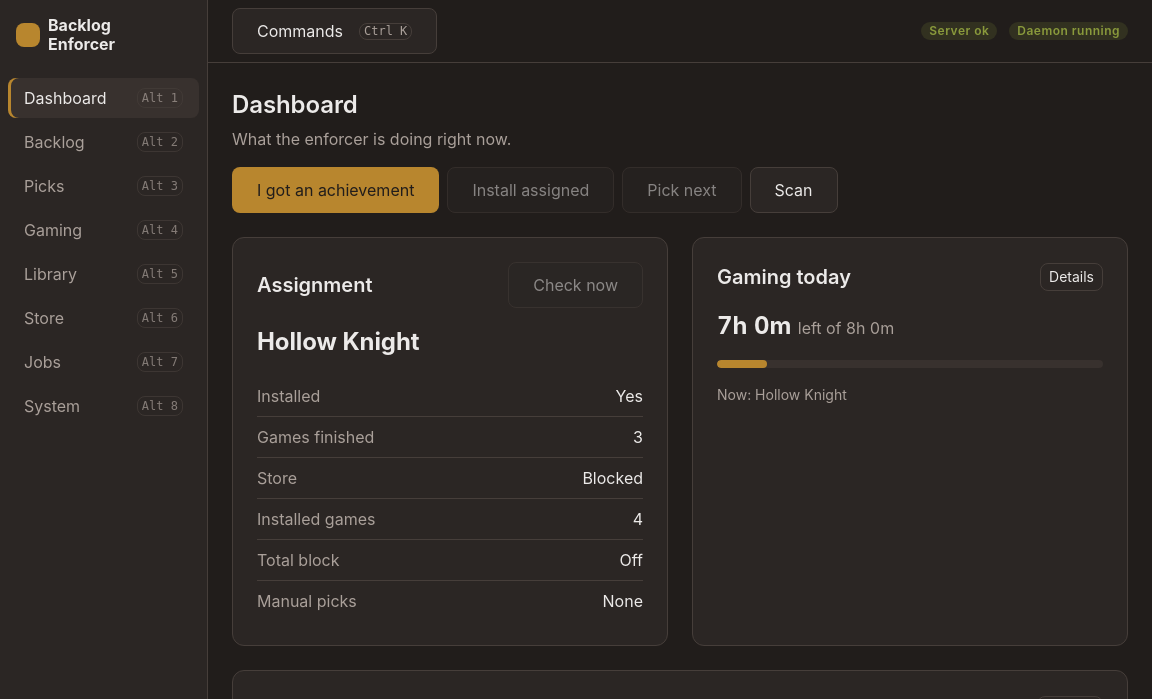
Test: App › walks the sidebar to another section
What coordinates should you click on to do the following:
click the link "Store Alt 6"
I would click on:
 (44, 318)
Its box is [24, 308, 183, 328].
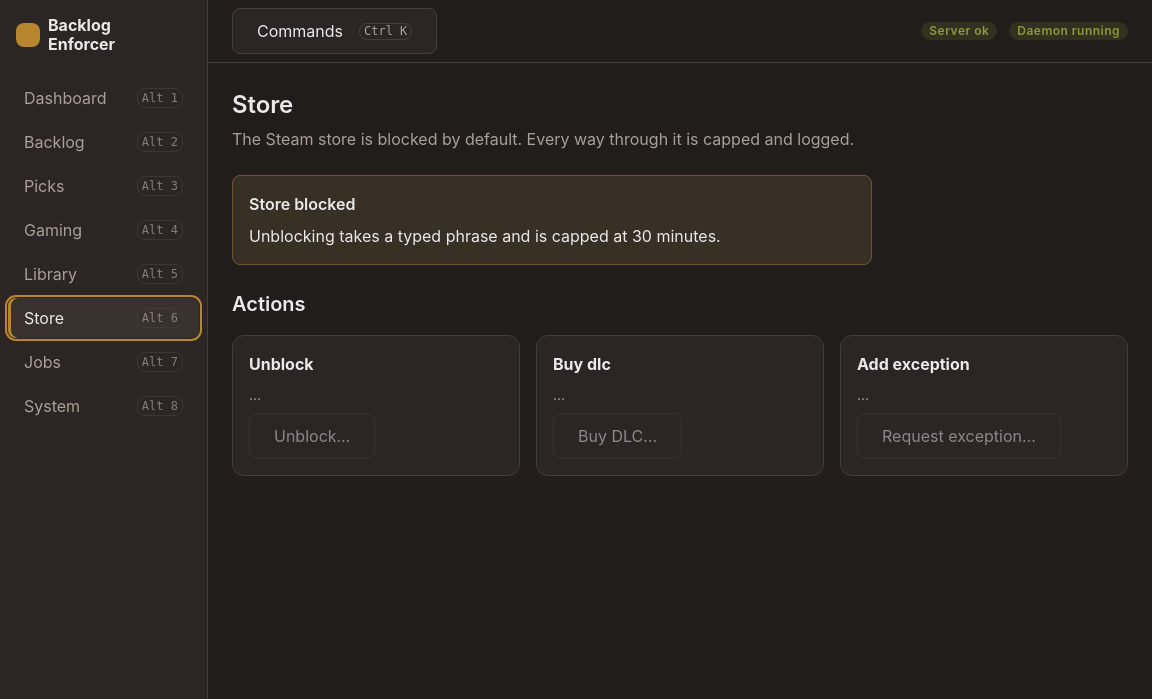
Result: the heading "Store" is shown at [232, 90, 293, 119]
